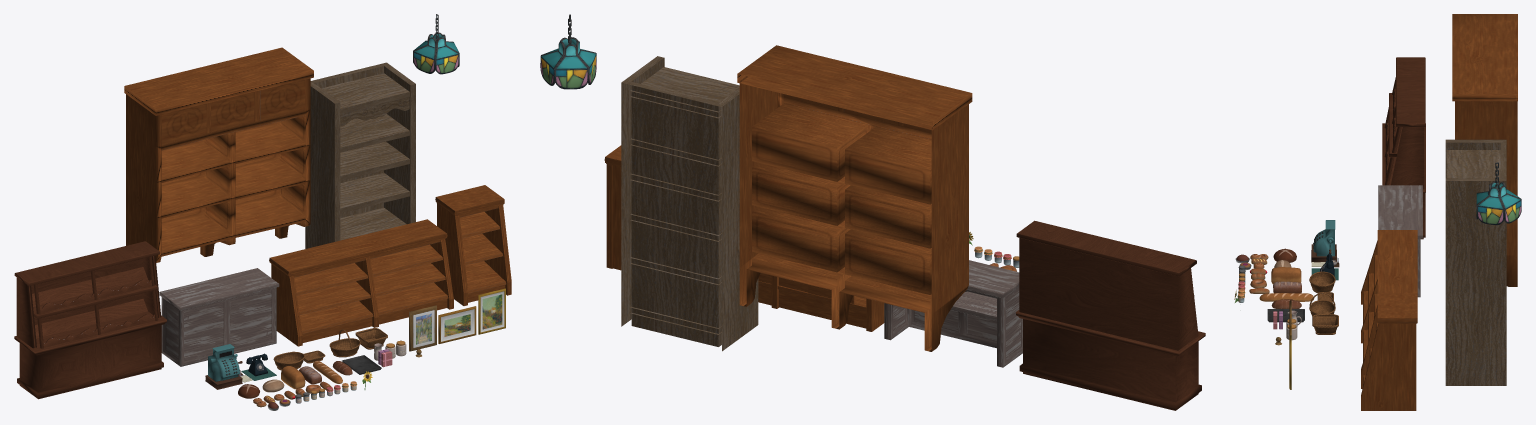
File: kikis_delivery_service_props_collection.fbx
3 views of the same model, side by side, from view 1: azimuth 30°, elevation 25°; view 2: azimuth 150°, elevation 25°; view 3: azimuth 270°, elevation 25° (orthographic). The views are drawn at different scales.
Parts seen in each view (by area): view 1: cabnet06, cabnet05, cabnet01, cabnet03, cabnet02, cabnet04, light, Register, picture02, picture01, picture03, sm_Basket03 (+2 smaller); view 2: cabnet06, cabnet01, cabnet05, cabnet02, cabnet03, light, cabnet04; view 3: cabnet01, cabnet06, cabnet04, cabnet05, cabnet03, cabnet02, light, Register, sm_Basket04, sm_Basket01, sm_Bread08, sm_Bread10 (+3 smaller).
Part boxes in pixels (x1=…): cabnet06: x1=124, y1=47, x2=313, y2=262; cabnet05: x1=14, y1=241, x2=166, y2=399; cabnet01: x1=305, y1=62, x2=415, y2=248; cabnet03: x1=269, y1=219, x2=453, y2=346; cabnet02: x1=159, y1=268, x2=279, y2=366; cabnet04: x1=435, y1=185, x2=511, y2=305; light: x1=413, y1=14, x2=459, y2=74; Register: x1=205, y1=344, x2=242, y2=389; picture02: x1=438, y1=306, x2=476, y2=343; picture01: x1=409, y1=305, x2=436, y2=351; picture03: x1=478, y1=288, x2=505, y2=334; sm_Basket03: x1=329, y1=329, x2=360, y2=357; cabnet06: x1=737, y1=45, x2=972, y2=351; cabnet01: x1=621, y1=56, x2=758, y2=351; cabnet05: x1=1016, y1=220, x2=1205, y2=410; cabnet02: x1=884, y1=260, x2=1022, y2=367; cabnet03: x1=758, y1=273, x2=884, y2=331; light: x1=540, y1=14, x2=596, y2=89; cabnet04: x1=604, y1=145, x2=621, y2=270; cabnet01: x1=1445, y1=139, x2=1506, y2=385; cabnet06: x1=1452, y1=14, x2=1517, y2=286; cabnet04: x1=1361, y1=293, x2=1417, y2=410; cabnet05: x1=1382, y1=57, x2=1425, y2=239; cabnet03: x1=1361, y1=230, x2=1417, y2=372; cabnet02: x1=1378, y1=185, x2=1422, y2=297; light: x1=1476, y1=162, x2=1521, y2=225; Register: x1=1311, y1=220, x2=1336, y2=262; sm_Basket04: x1=1312, y1=314, x2=1338, y2=334; sm_Basket01: x1=1309, y1=271, x2=1335, y2=293; sm_Bread08: x1=1271, y1=267, x2=1301, y2=284; sm_Bread10: x1=1259, y1=293, x2=1313, y2=301.
Bounding box in the file's own units: 1.05 × 0.5004 × 0.527.
10 materials, 10 textured.
